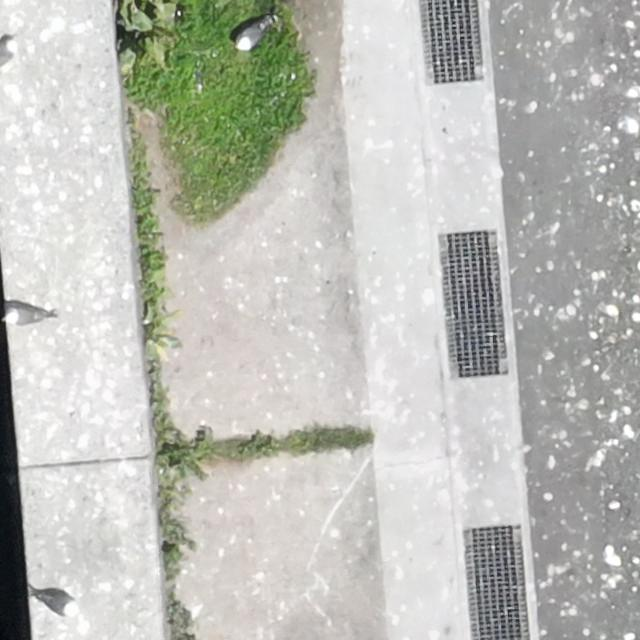umineko: (236, 20, 266, 48), (39, 591, 75, 613), (6, 307, 42, 324)
